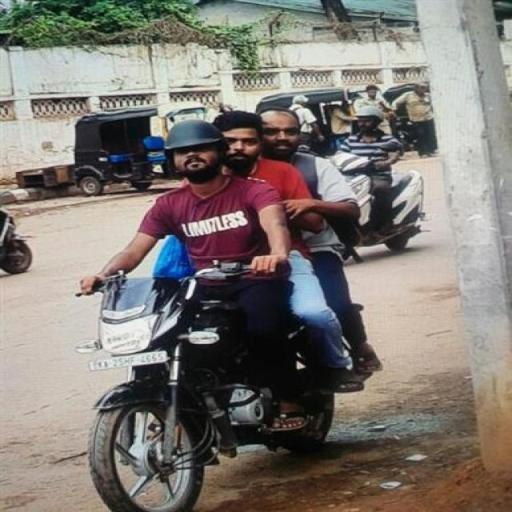tripple riding: (74, 104, 363, 308)
